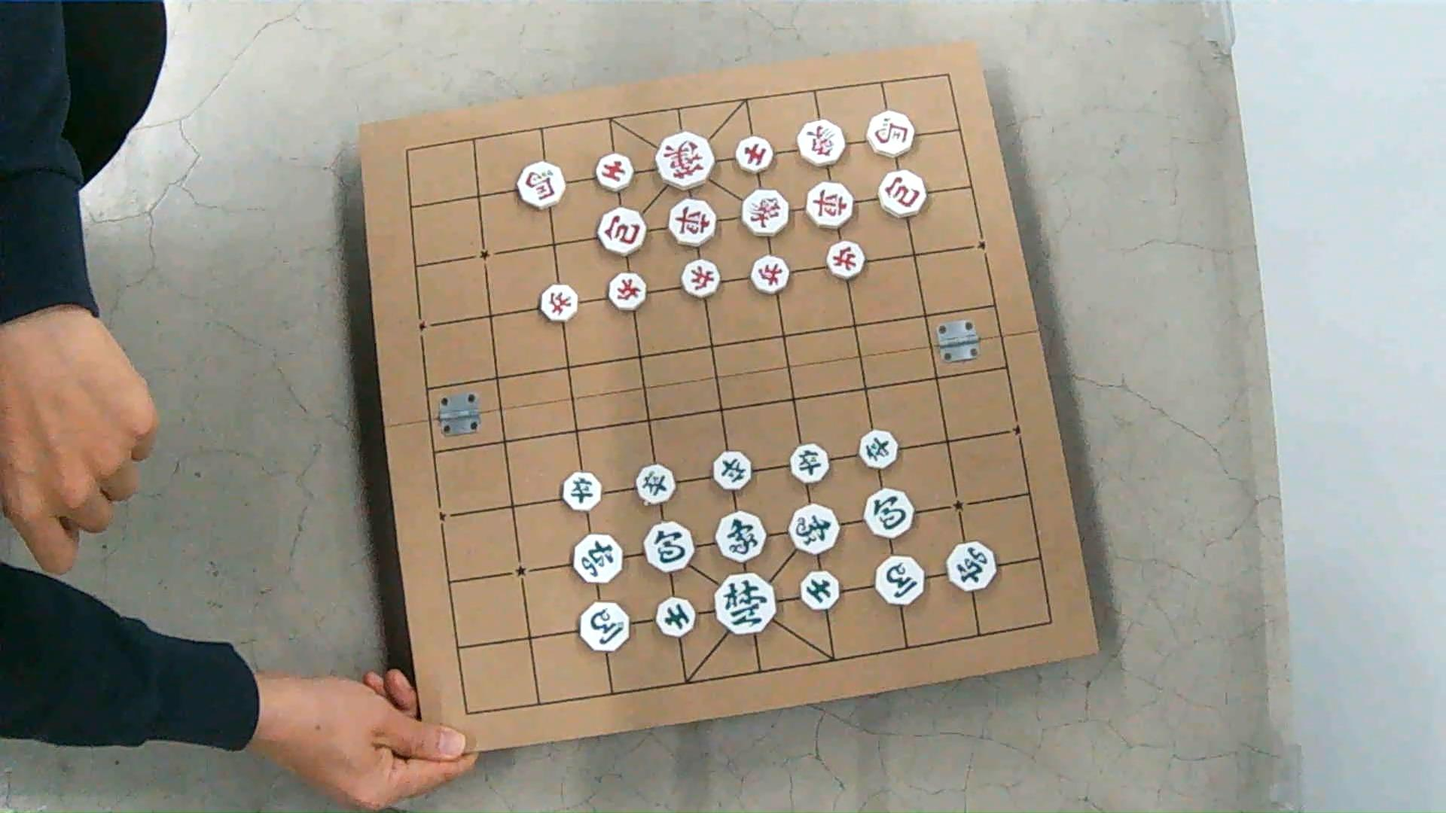cha_green: (573, 534, 623, 583), (947, 542, 995, 592)
cha_red: (669, 199, 715, 246), (806, 182, 853, 228)
jol_green: (636, 465, 675, 504), (713, 451, 751, 490), (790, 444, 828, 483), (859, 430, 898, 468), (563, 471, 600, 511)
jol_red: (751, 256, 789, 294), (827, 241, 865, 279), (539, 285, 577, 321), (609, 273, 645, 311), (682, 259, 718, 297)
ma_green: (579, 602, 627, 651), (875, 556, 923, 604)
ma_red: (517, 162, 565, 209), (867, 111, 914, 157)
po_green: (645, 522, 694, 573), (865, 489, 913, 538)
po_red: (597, 208, 645, 255), (880, 171, 925, 217)
sa_green: (656, 598, 695, 637), (801, 571, 839, 611)
sa_red: (595, 154, 633, 191), (736, 136, 773, 173)
sang_green: (716, 511, 765, 562), (789, 504, 838, 554)
sang_red: (741, 190, 789, 236), (798, 120, 844, 166)
wang_green: (716, 573, 776, 635)
wang_red: (657, 132, 714, 189)
